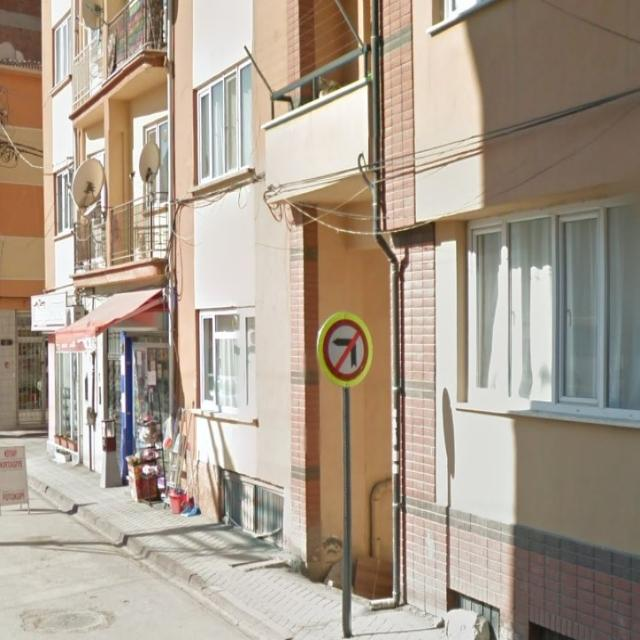soladonulmez: (324, 318, 368, 382)
